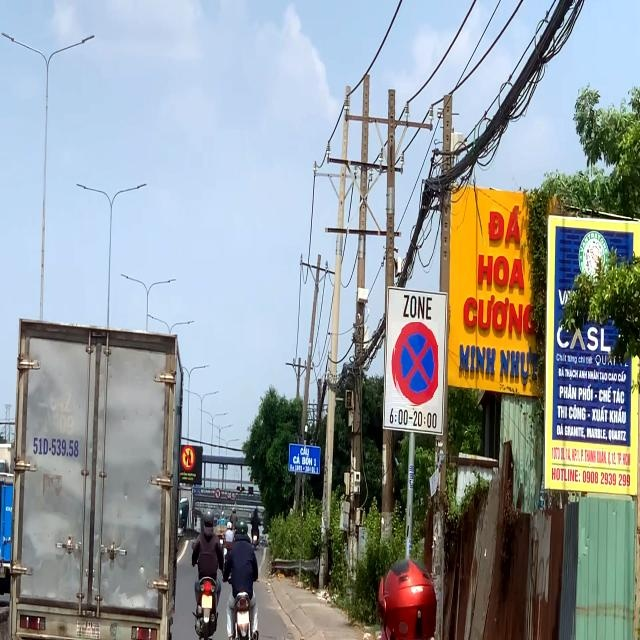bien_cam: (392, 322, 438, 407)
